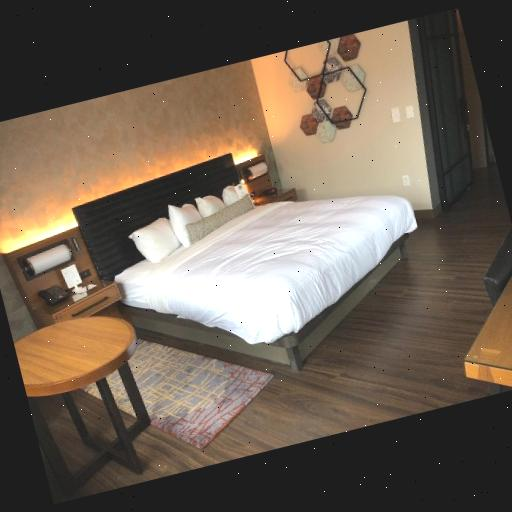clean_bed: (72, 150, 414, 372)
clean_floor: (80, 212, 512, 484)
organised_pillow: (122, 173, 259, 272)
organized table: (13, 306, 173, 502)
